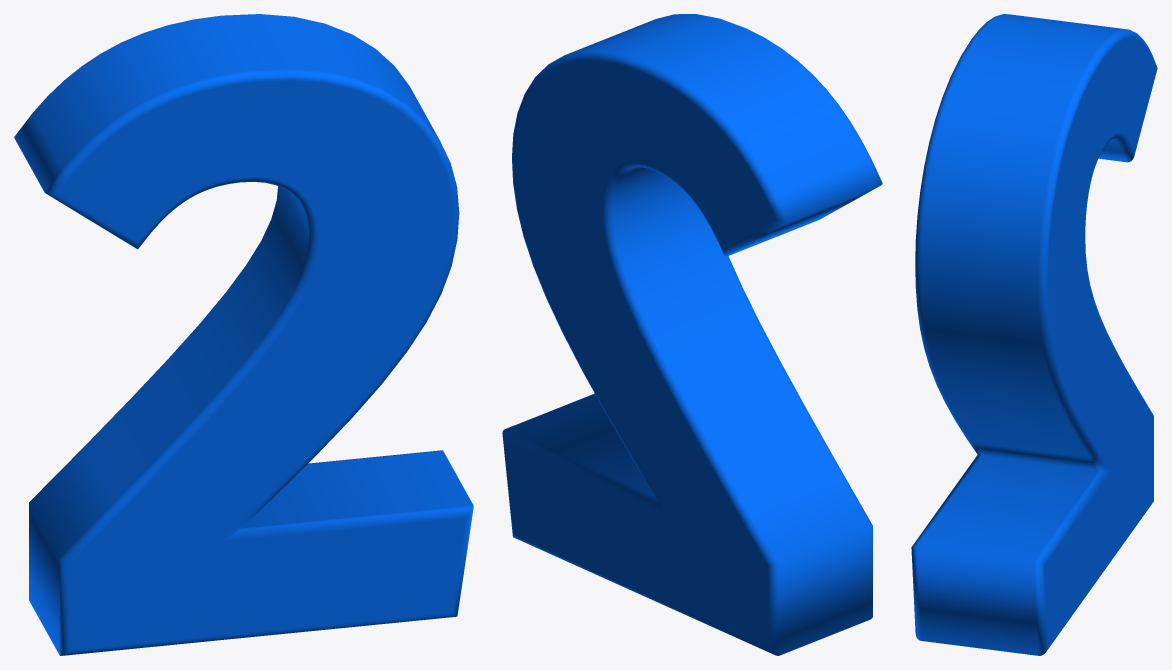
Rendered from two.glb.
The picture shows the model from 3 angles, left to right: view 1: azimuth 30°, elevation 25°; view 2: azimuth 150°, elevation 25°; view 3: azimuth 270°, elevation 25°; orthographic projection. The views are drawn at different scales.
Parts seen in each view (by area): view 1: 2 Origin.001; view 2: 2 Origin.001; view 3: 2 Origin.001.
Part boxes in pixels (box(x1,y1,x2,y2)): 2 Origin.001: box(14, 14, 473, 655); 2 Origin.001: box(502, 14, 882, 655); 2 Origin.001: box(911, 14, 1157, 655).
Size of the model in its own units: 10.44 by 14.14 by 6.01.
